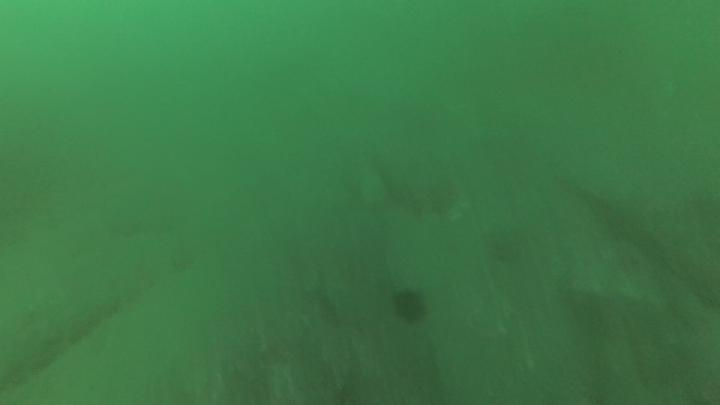echinus: (394, 291, 425, 323)
